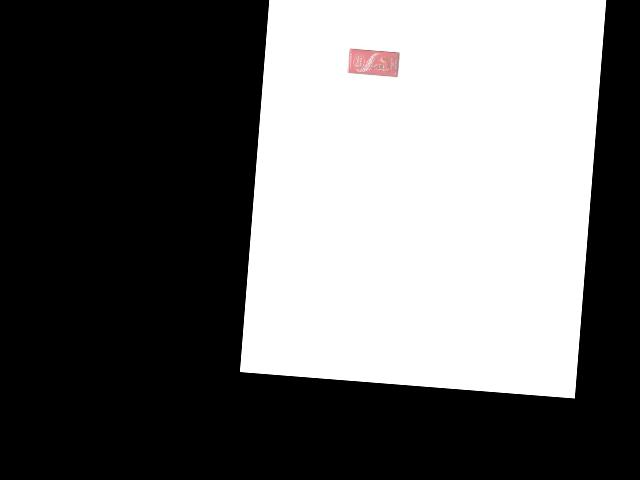chocolate: (346, 47, 403, 79)
